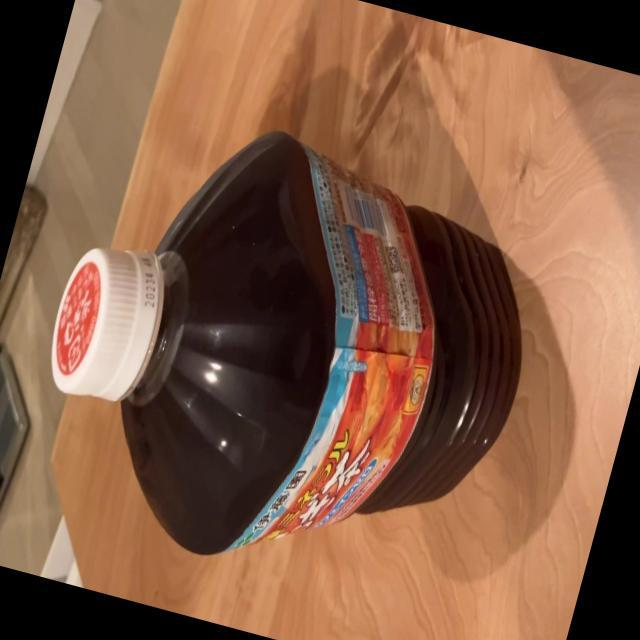good: (2, 90, 566, 626)
